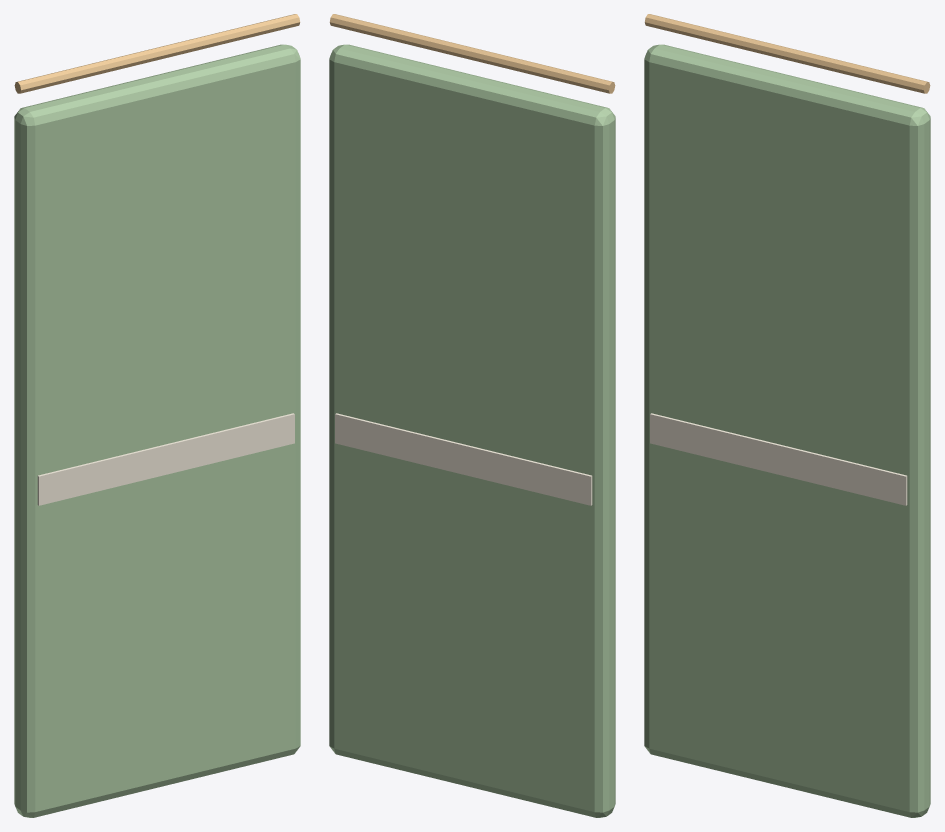
Rendered from cozy-home-interiors-bedroom-curtain-3c929d22.glb.
3 renders of one model, left to right at view 1: azimuth 30°, elevation 25°; view 2: azimuth 150°, elevation 25°; view 3: azimuth 330°, elevation 25°, orthographic.
Visible parts, largest first — view 1: bedroom-curtain; view 2: bedroom-curtain; view 3: bedroom-curtain.
Boxes of the visible parts, x1,y1,x2,y2 form: bedroom-curtain: (14,14,300,817); bedroom-curtain: (329,14,615,817); bedroom-curtain: (644,14,930,817).
Bounding box in the file's own units: 0.6 × 1.51 × 0.07.
